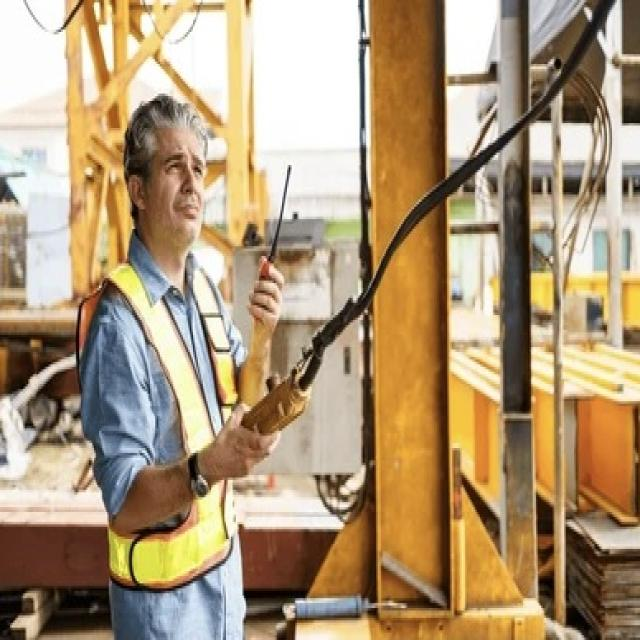no-gloves: (117, 400, 292, 484), (248, 251, 292, 374)
no-helmet: (94, 86, 243, 268)
person: (65, 78, 369, 640)
vest: (77, 267, 233, 561)
